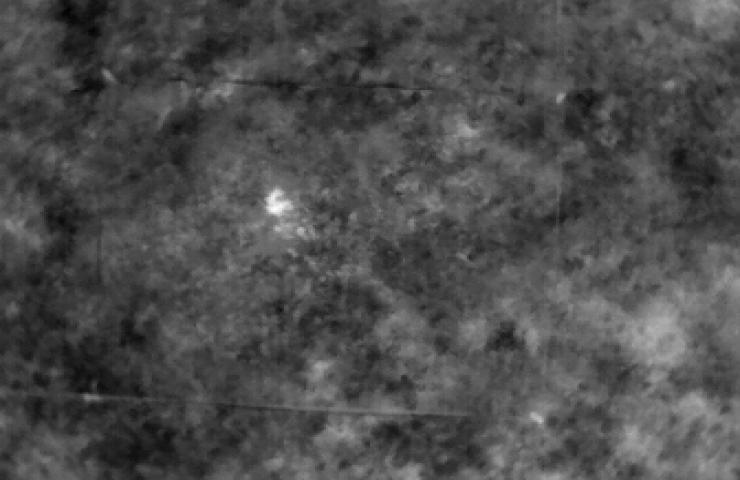landmines: (263, 186, 296, 219)
